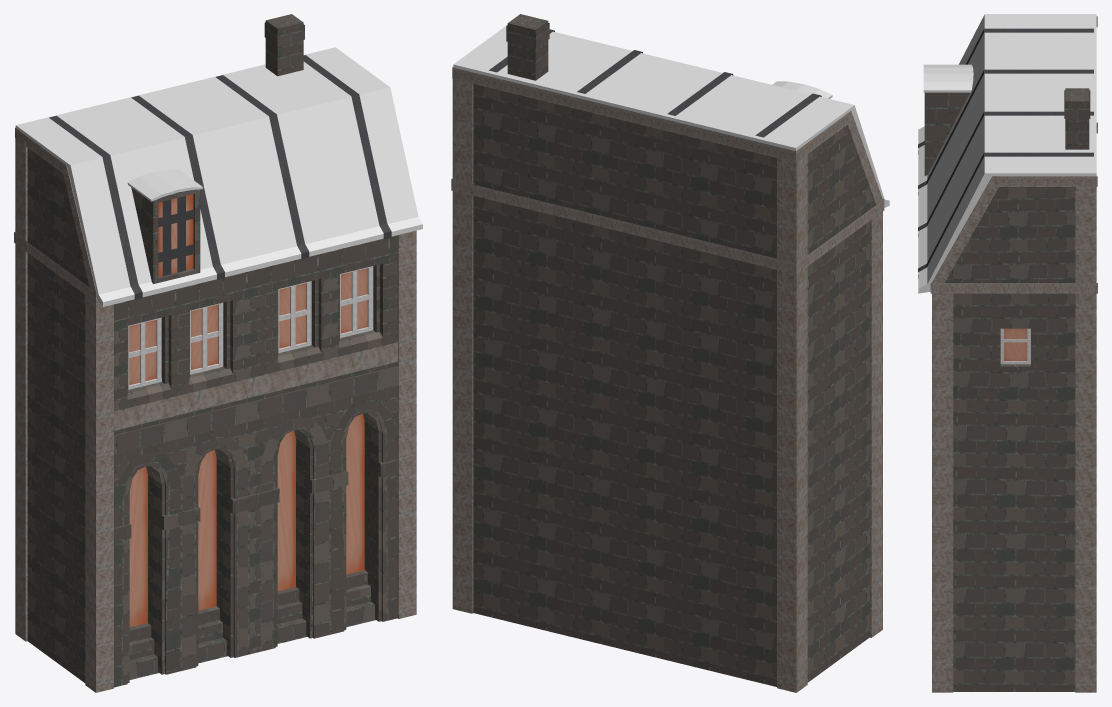
The model's file is TestBuilding02.fbx.
The picture shows the model from 3 angles, left to right: view 1: azimuth 30°, elevation 25°; view 2: azimuth 150°, elevation 25°; view 3: azimuth 270°, elevation 25°; orthographic projection. The views are drawn at different scales.
Visible parts, largest first — view 1: Building01; view 2: Building01; view 3: Building01.
Part boxes in pixels (x1,y1,x2,y2): Building01: (14,14,422,692); Building01: (451,14,889,692); Building01: (918,14,1097,692).
Bounding box in the file's own units: 711 × 1175 × 337.
Materials: 6 (5 with a texture image).
